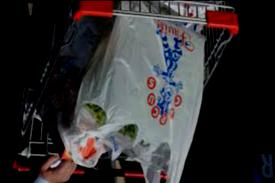Plastic: (87, 2, 207, 182)
